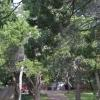Tree: (34, 0, 100, 78)
